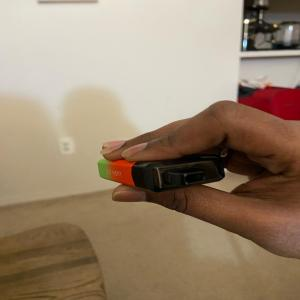Swift-E-Ciggirate: (93, 155, 232, 193)
